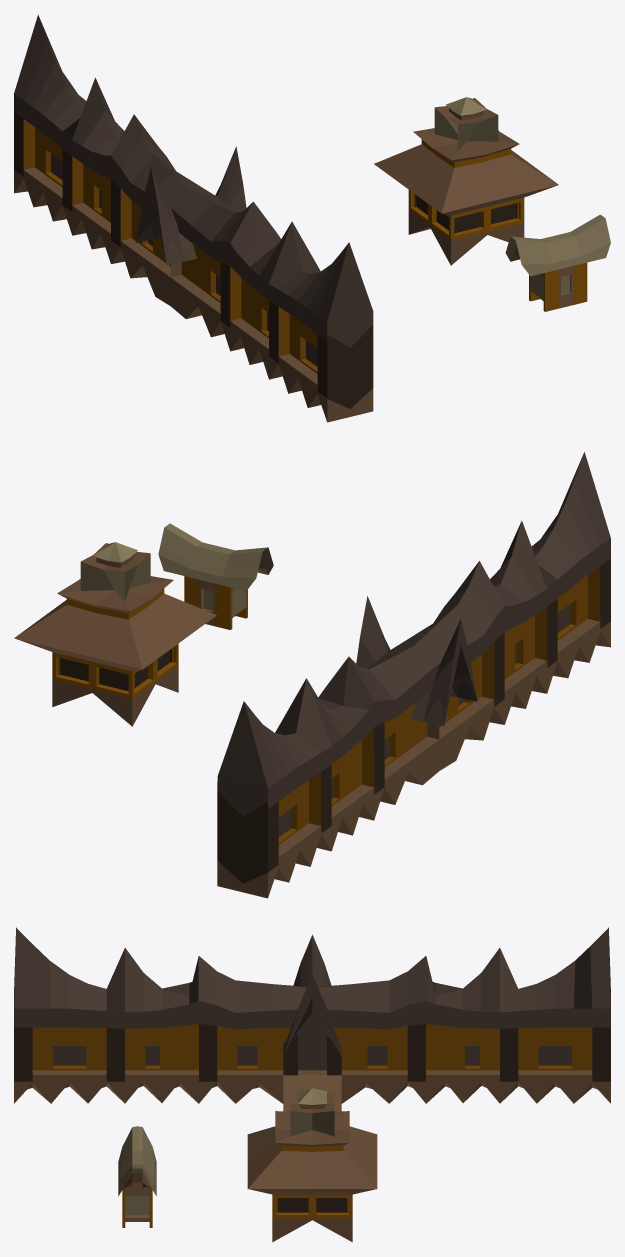
The model's file is Rumah.glb.
3 views of the same model, one above another, from view 1: azimuth 30°, elevation 25°; view 2: azimuth 150°, elevation 25°; view 3: azimuth 270°, elevation 25° (orthographic). The views are drawn at different scales.
Visible parts, largest first — view 1: Cube.153, Cube.155, Cube.154; view 2: Cube.153, Cube.155, Cube.154; view 3: Cube.153, Cube.155, Cube.154.
Boxes of the visible parts, x1=… form: Cube.153: x1=14, y1=14, x2=373, y2=422; Cube.155: x1=374, y1=97, x2=558, y2=265; Cube.154: x1=505, y1=214, x2=610, y2=311; Cube.153: x1=217, y1=452, x2=610, y2=898; Cube.155: x1=14, y1=542, x2=216, y2=726; Cube.154: x1=158, y1=523, x2=273, y2=629; Cube.153: x1=14, y1=927, x2=610, y2=1111; Cube.155: x1=247, y1=1088, x2=377, y2=1242; Cube.154: x1=118, y1=1126, x2=156, y2=1227.
Bounding box in the file's own units: 254 × 116 × 368.
